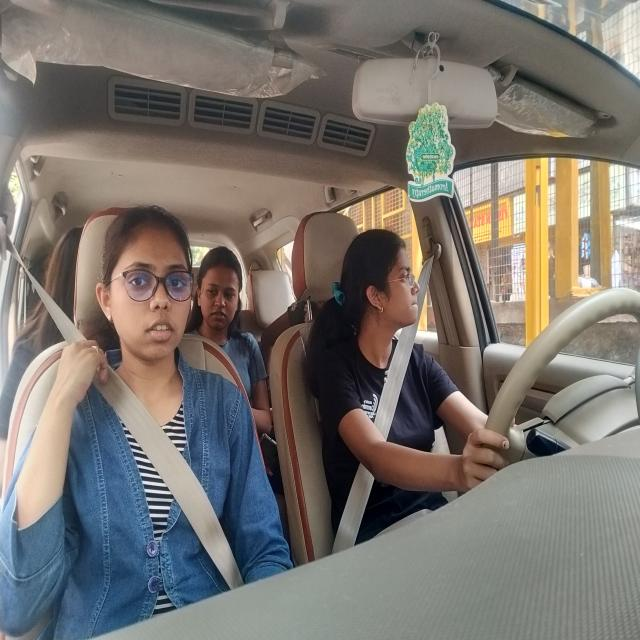LeftRight: (345, 209, 429, 360)
person: (97, 198, 201, 380), (194, 240, 252, 357)
